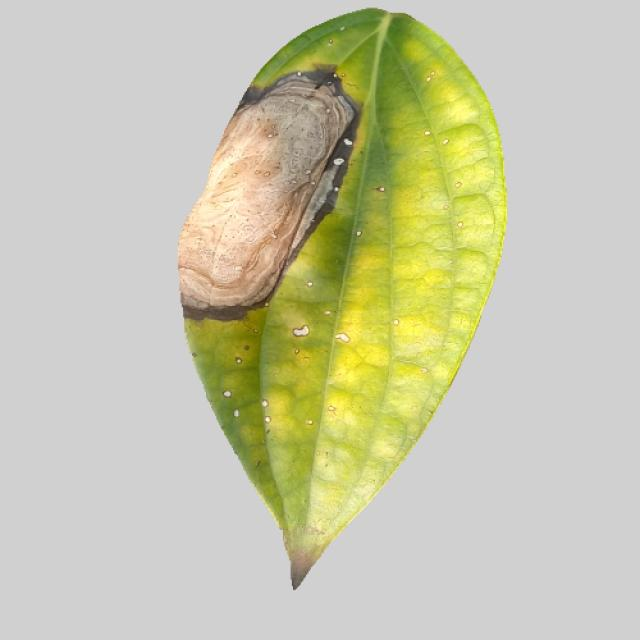leaf-blight: (166, 26, 520, 596)
